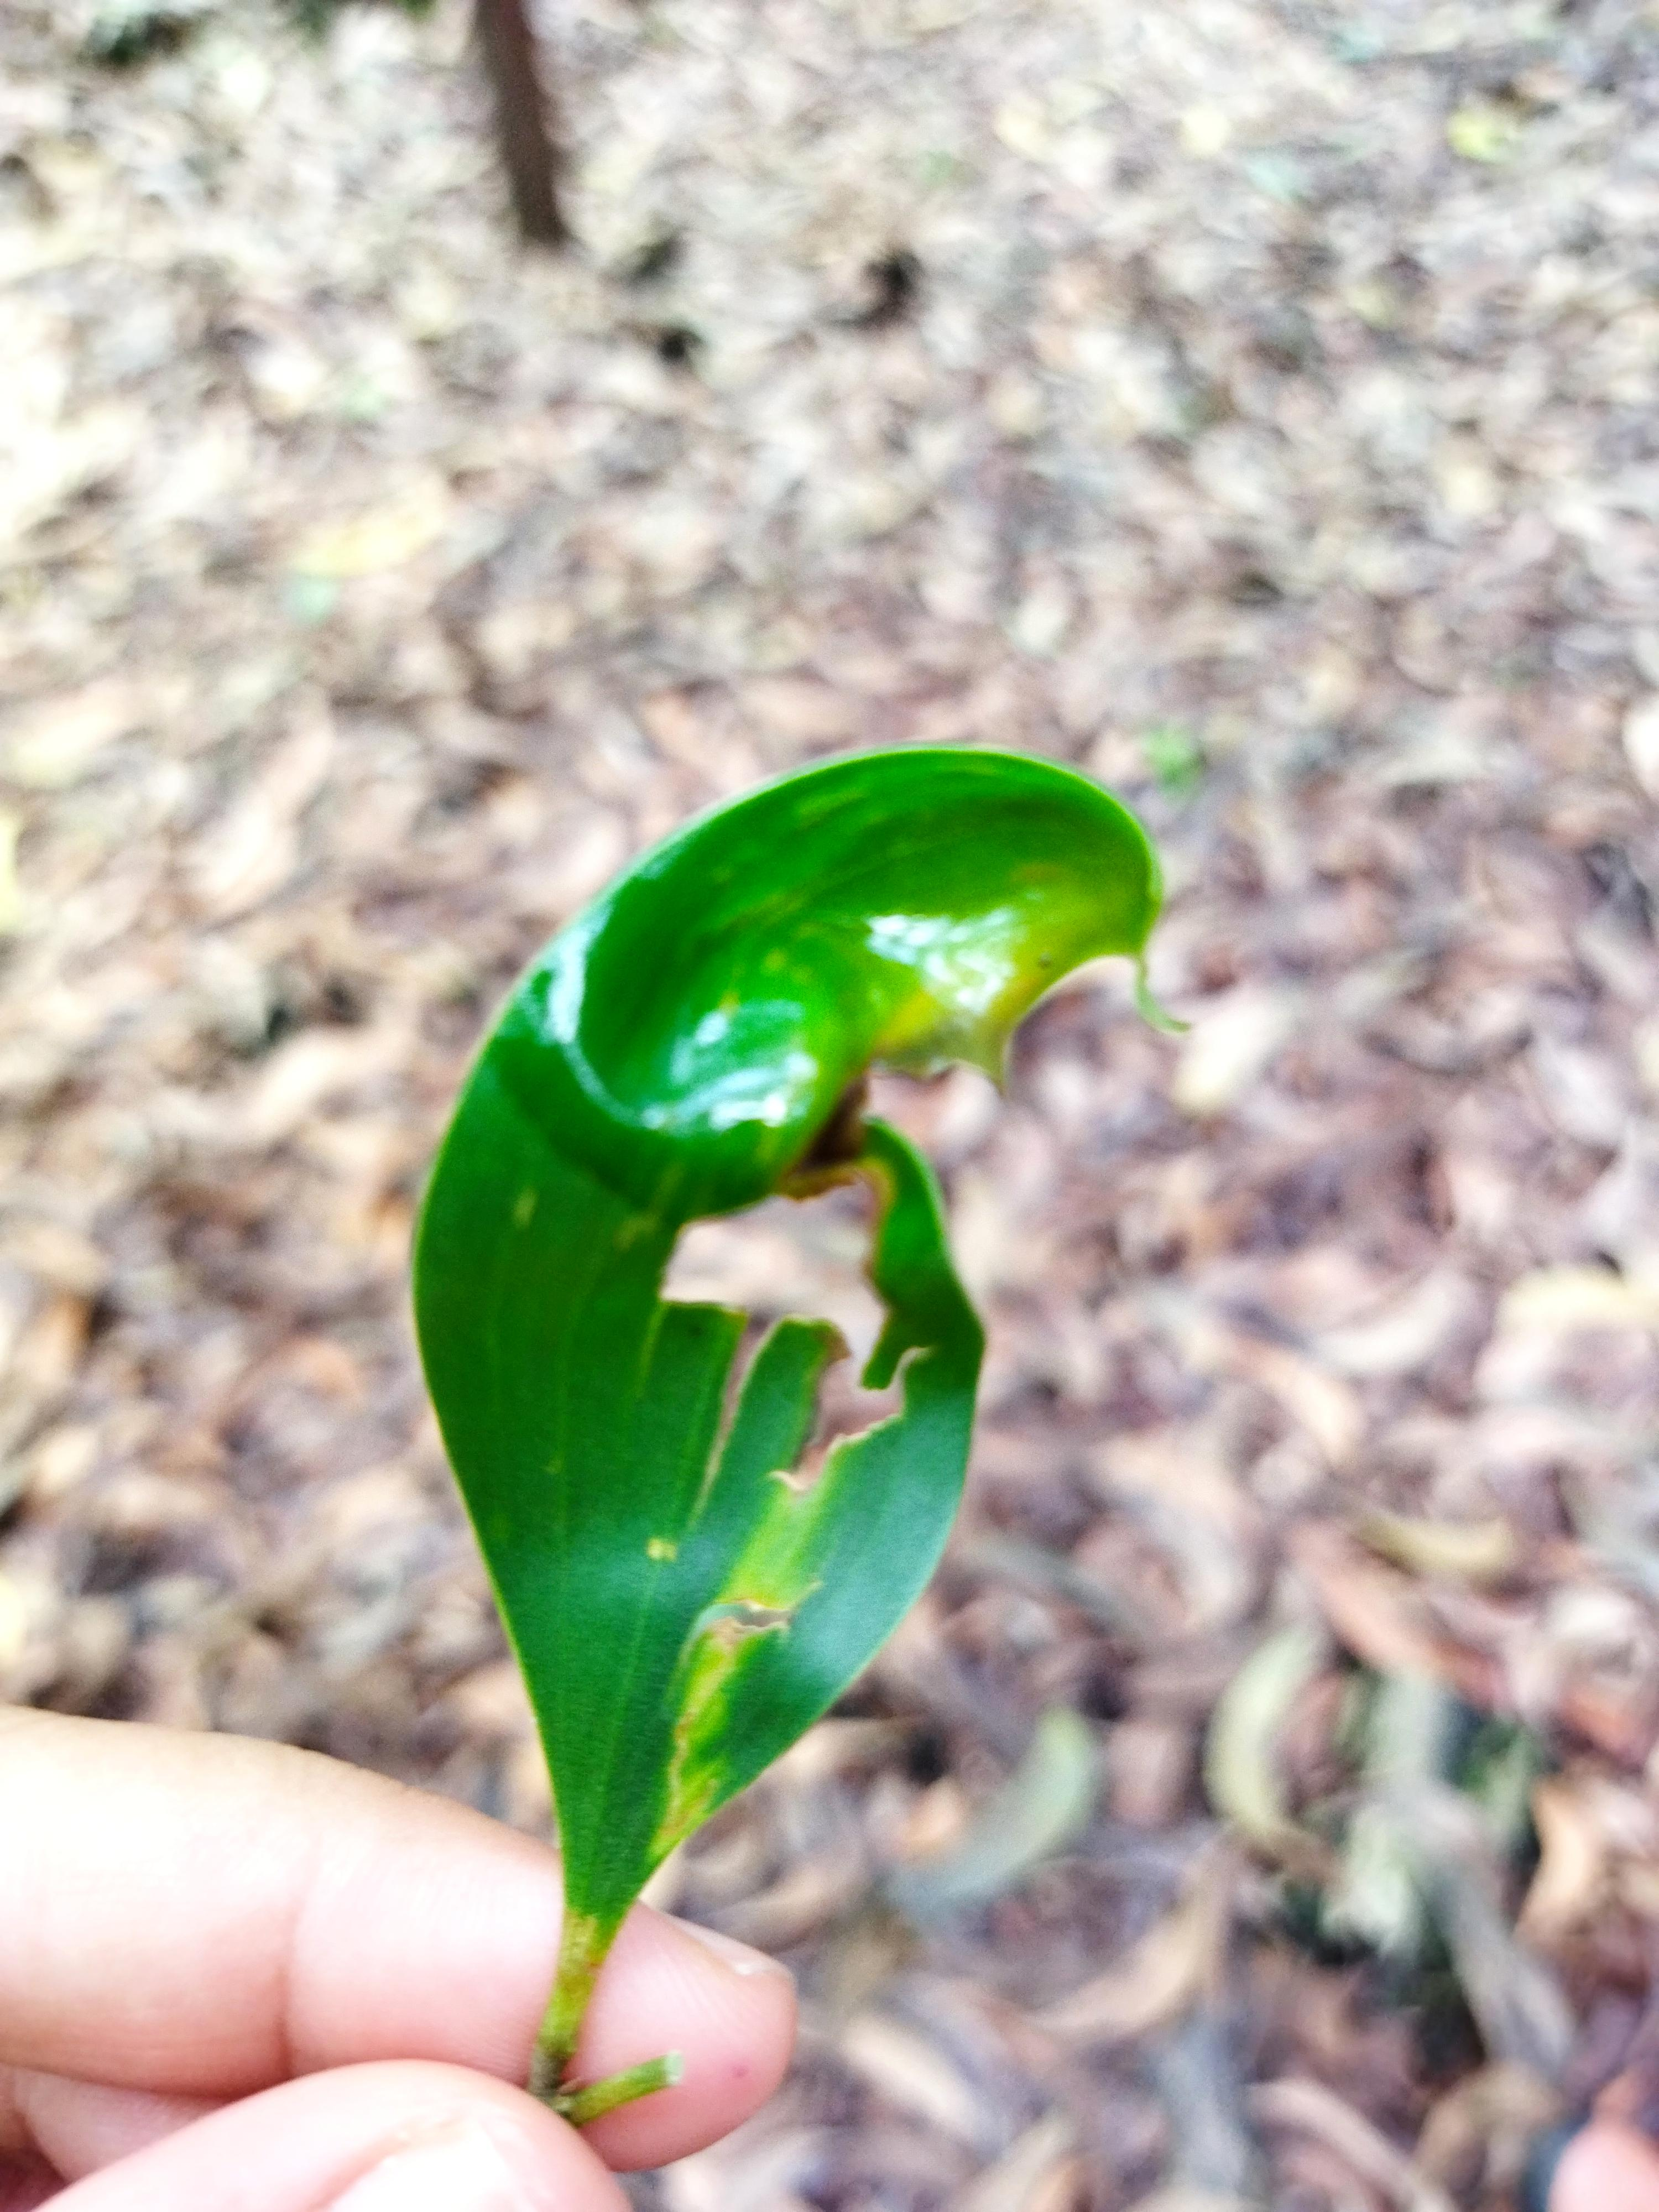Pasalora: (416, 752, 1164, 1867)
